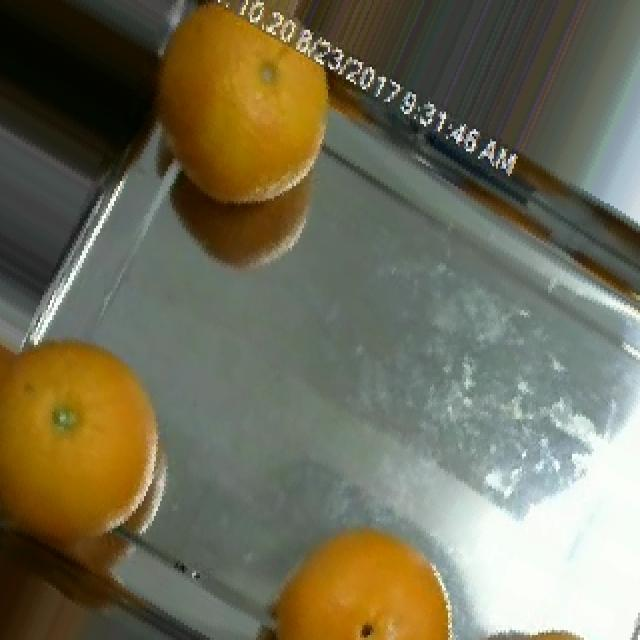Fruit: (150, 139, 338, 300)
